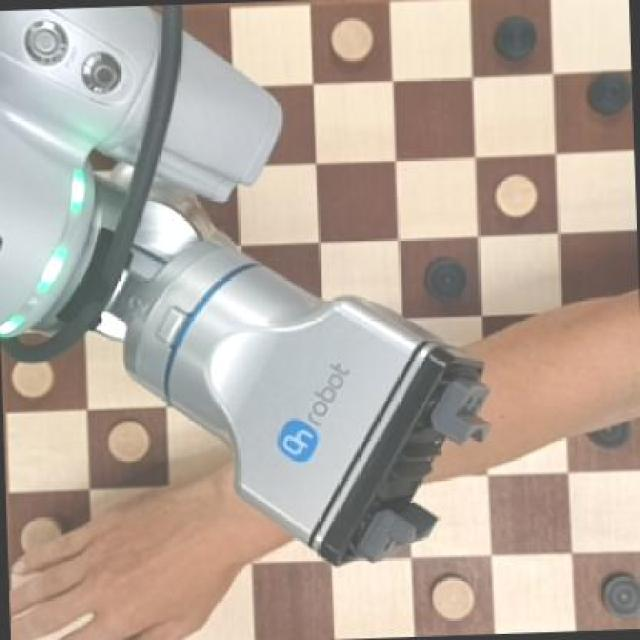black: (587, 560, 640, 623), (418, 252, 470, 308), (577, 67, 629, 119), (488, 12, 538, 62)
white: (423, 570, 483, 628), (324, 12, 377, 67), (96, 417, 151, 467), (2, 354, 60, 400), (494, 170, 542, 224)
